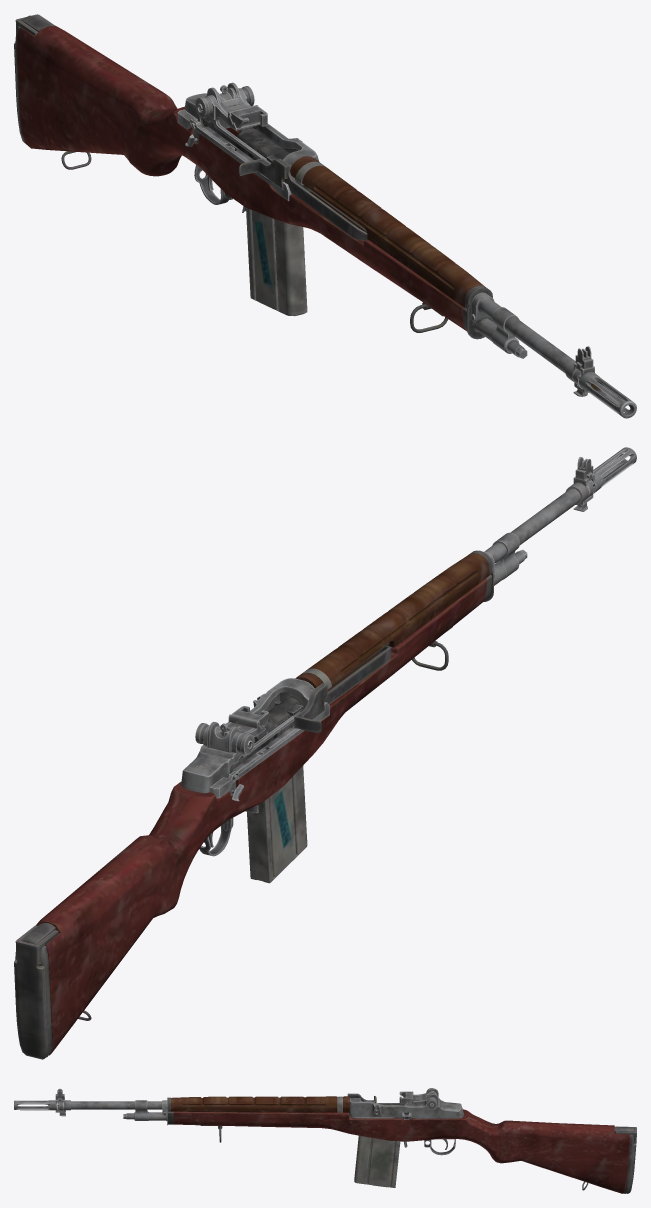
The model's file is m14_rifle.glb.
3 renders of one model, top to bottom at view 1: azimuth 30°, elevation 25°; view 2: azimuth 150°, elevation 25°; view 3: azimuth 270°, elevation 25°, orthographic. The views are drawn at different scales.
Parts seen in each view (by area): view 1: Object_2, Object_3; view 2: Object_2, Object_3; view 3: Object_2, Object_3.
Part boxes in pixels (box(x1,y1,x2,y2)): Object_2: box(14, 14, 492, 339); Object_3: box(177, 82, 636, 418); Object_2: box(14, 550, 493, 1059); Object_3: box(181, 447, 636, 856); Object_2: box(167, 1093, 636, 1193); Object_3: box(14, 1088, 463, 1155).
Size of the model in its own units: 0.0719 by 0.2019 by 1.12.
2 materials, 2 textured.
